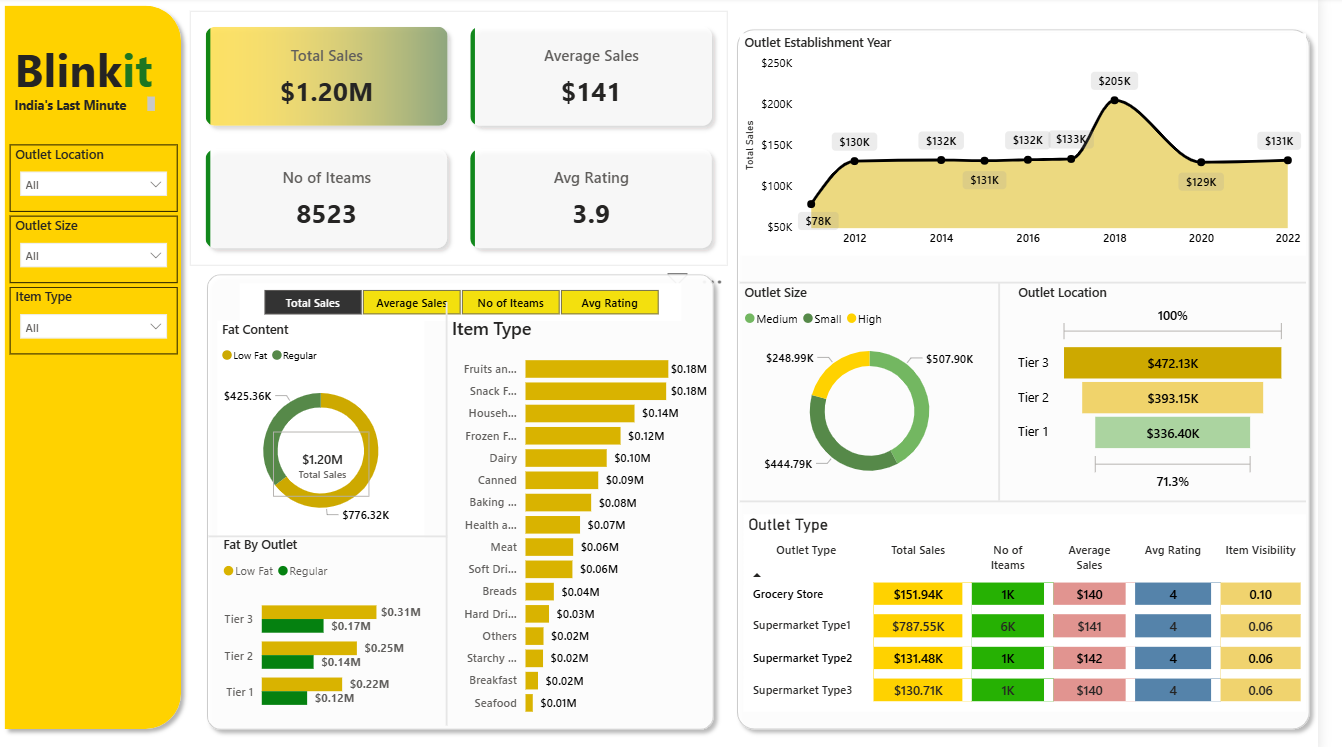

This screenshot's page, from the dashboard's own definition file:
{"tool":"powerbi","page":{"name":"Page 1","canvas":[1400,800],"ordinal":0},"visuals":[{"type":"shape","box":[0,0,205,784.4],"z":0},{"type":"textbox","box":[14.6,38.4,177.2,76.7],"z":1000},{"type":"textbox","box":[14.6,100.5,158.7,29.1],"z":2000},{"type":"cardVisual","fields":{"Data":["BlinkIT Grocery Data.Total Sales","BlinkIT Grocery Data.Average Sales","BlinkIT Grocery Data.No of Iteams","BlinkIT Grocery Data.Avg Rating"]},"box":[205,14.6,570.1,269.8],"z":3000},{"type":"shape","box":[214.3,284.4,554.2,500],"z":4000},{"type":"donutChart","title":"Fat Content","fields":{"Y":["BlinkIT Grocery Data.Total Sales"],"Category":["BlinkIT Grocery Data.Item Fat Content"]},"box":[234.1,342.6,219.6,230.2],"z":5000},{"type":"slicer","fields":{"Values":["Matrix.Matrix"]},"box":[257.9,302.9,466.9,39.7],"z":6000},{"type":"cardVisual","fields":{"Data":["BlinkIT Grocery Data.Total Sales"]},"box":[288.4,455,112.4,79.4],"z":7000},{"type":"clusteredBarChart","title":"Fat By Outlet","fields":{"Y":["BlinkIT Grocery Data.Total Sales"],"Category":["BlinkIT Grocery Data.Outlet Location Type"],"Series":["BlinkIT Grocery Data.Item Fat Content"]},"box":[235.5,570.1,219.6,201.1],"z":8000},{"type":"shape","box":[224.9,551.6,252.6,38.4],"z":9000},{"type":"shape","box":[461.6,322.8,30.4,448.4],"z":10000},{"type":"barChart","title":" Item Type","fields":{"Y":["BlinkIT Grocery Data.Total Sales"],"Category":["BlinkIT Grocery Data.Item Type"]},"box":[477.5,337.3,280.4,433.9],"z":11000},{"type":"shape","box":[775.1,25.1,624.3,759.3],"z":12000},{"type":"lineChart","title":"Outlet Establishment Year","fields":{"Category":["BlinkIT Grocery Data.Outlet Establishment Year"],"Y":["BlinkIT Grocery Data.Total Sales"]},"box":[787,38.4,599.2,235.5],"z":13000},{"type":"shape","box":[787,283.1,599.2,38.4],"z":14000},{"type":"donutChart","title":"Outlet Size","fields":{"Y":["BlinkIT Grocery Data.Total Sales"],"Category":["BlinkIT Grocery Data.Outlet Size"]},"box":[787,302.9,275,225],"z":15000},{"type":"funnel","title":"Outlet Location ","fields":{"Category":["BlinkIT Grocery Data.Outlet Location Type"],"Y":["BlinkIT Grocery Data.Total Sales"]},"box":[1076.7,302.9,293.7,224.9],"z":16000},{"type":"pivotTable","title":"Outlet Type","fields":{"Rows":["BlinkIT Grocery Data.Outlet Type"],"Values":["BlinkIT Grocery Data.Total Sales","BlinkIT Grocery Data.No of Iteams","BlinkIT Grocery Data.Average Sales","BlinkIT Grocery Data.Avg Rating","Avg(BlinkIT Grocery Data.Item Visibility)"]},"box":[791,547.6,595.2,209],"z":17000},{"type":"shape","box":[787,514.6,599.2,38.4],"z":18000},{"type":"shape","box":[1046.3,302.9,30.4,230.2],"z":19000},{"type":"slicer","title":"Outlet Location","fields":{"Values":["BlinkIT Grocery Data.Outlet Location Type"]},"box":[14.6,156.1,177.2,71.4],"z":20000},{"type":"slicer","title":"Outlet Size","fields":{"Values":["BlinkIT Grocery Data.Outlet Size"]},"box":[14.6,231.5,177.2,71.4],"z":21000},{"type":"slicer","title":"Item Type","fields":{"Values":["BlinkIT Grocery Data.Item Type"]},"box":[14.6,306.9,177.2,71.4],"z":22000}]}

Visuals, with their boxes in screenshot pixels (x1, y1, x2, y2), scaled from the page's 1400x800 canvas onto the 1342x747 screenshot:
shape: <region>0, 0, 197, 732</region>
textbox: <region>14, 36, 184, 107</region>
textbox: <region>14, 94, 166, 121</region>
cardVisual - BlinkIT Grocery Data.Total Sales x BlinkIT Grocery Data.Average Sales: <region>197, 14, 743, 266</region>
shape: <region>205, 266, 737, 732</region>
"Fat Content" donutChart: <region>224, 320, 435, 535</region>
slicer - Matrix.Matrix: <region>247, 283, 695, 320</region>
cardVisual - BlinkIT Grocery Data.Total Sales: <region>276, 425, 384, 499</region>
"Fat By Outlet" clusteredBarChart: <region>226, 532, 436, 720</region>
shape: <region>216, 515, 458, 551</region>
shape: <region>442, 301, 472, 720</region>
" Item Type" barChart: <region>458, 315, 727, 720</region>
shape: <region>743, 23, 1341, 732</region>
"Outlet Establishment Year" lineChart: <region>754, 36, 1329, 256</region>
shape: <region>754, 264, 1329, 300</region>
"Outlet Size" donutChart: <region>754, 283, 1018, 493</region>
"Outlet Location " funnel: <region>1032, 283, 1314, 493</region>
"Outlet Type" pivotTable: <region>758, 511, 1329, 706</region>
shape: <region>754, 481, 1329, 516</region>
shape: <region>1003, 283, 1032, 498</region>
"Outlet Location" slicer: <region>14, 146, 184, 212</region>
"Outlet Size" slicer: <region>14, 216, 184, 283</region>
"Item Type" slicer: <region>14, 287, 184, 353</region>
